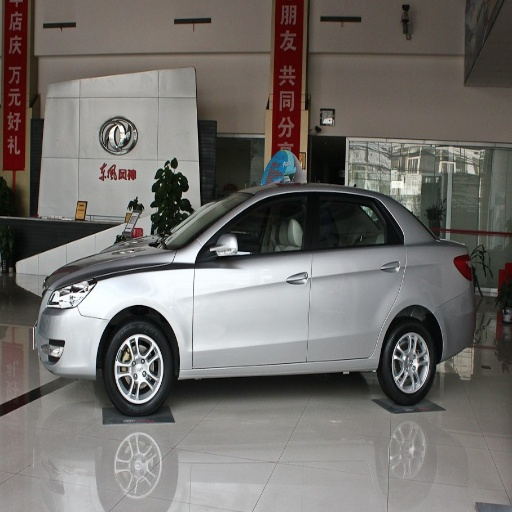back_left_door: (308, 191, 404, 359)
front_bumper: (42, 306, 107, 361)
front_left_door: (194, 192, 314, 367)
